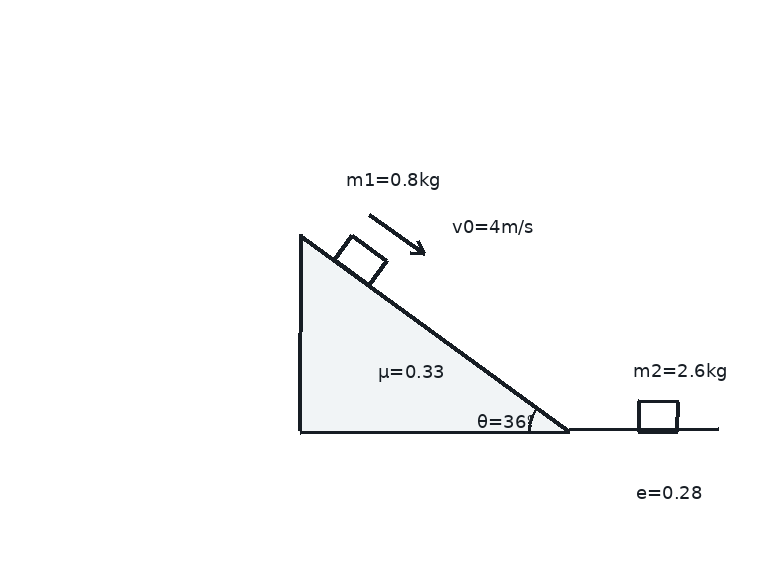block: (332, 234, 388, 287), (636, 400, 680, 433)
ramp: (298, 233, 571, 433)
